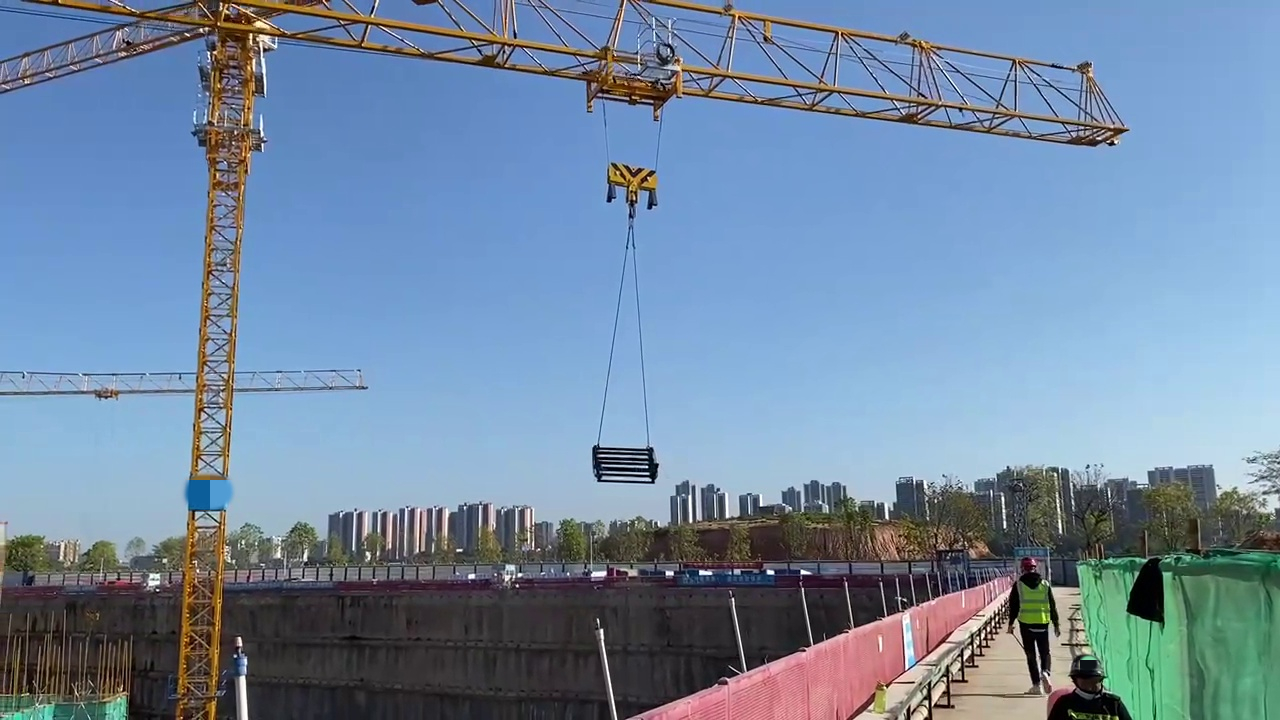fence: (641, 618, 898, 720), (899, 567, 993, 667)
helmet: (1067, 654, 1111, 679), (1018, 555, 1036, 567)
hook: (602, 158, 660, 208)
person: (1004, 548, 1057, 692), (1049, 650, 1139, 720)
vest: (1017, 581, 1046, 630)
